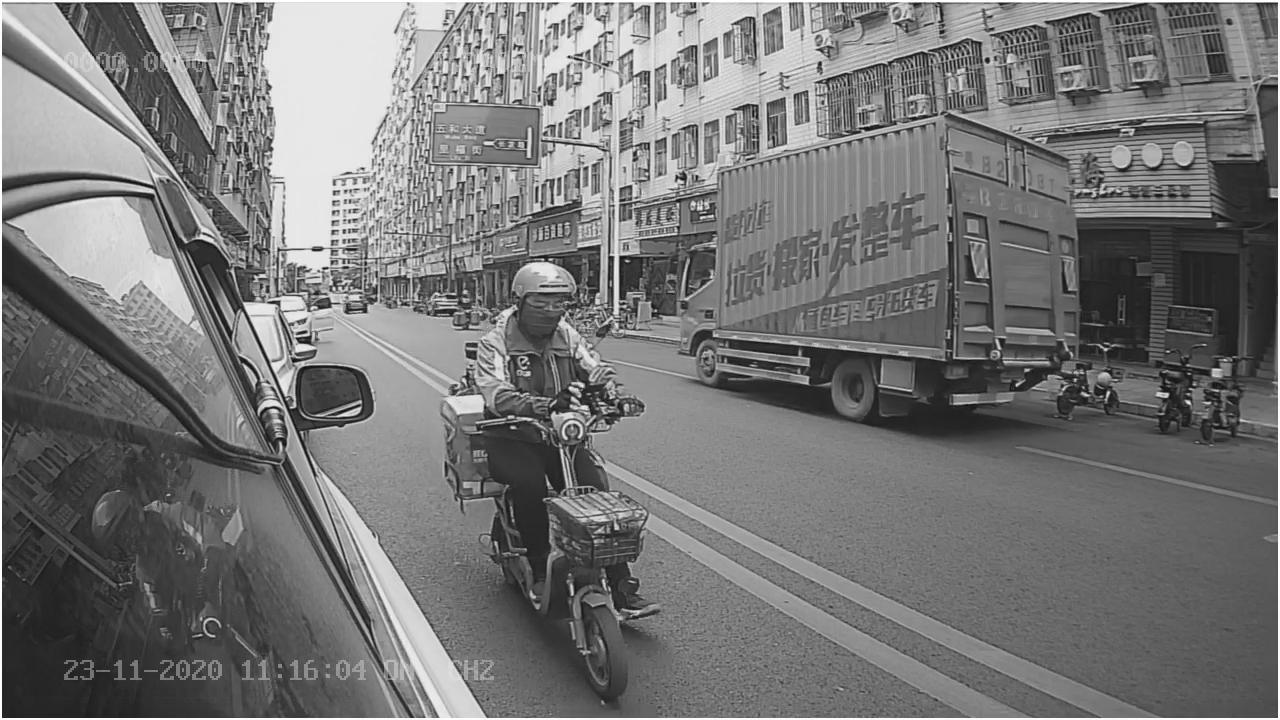person: (467, 254, 631, 384)
